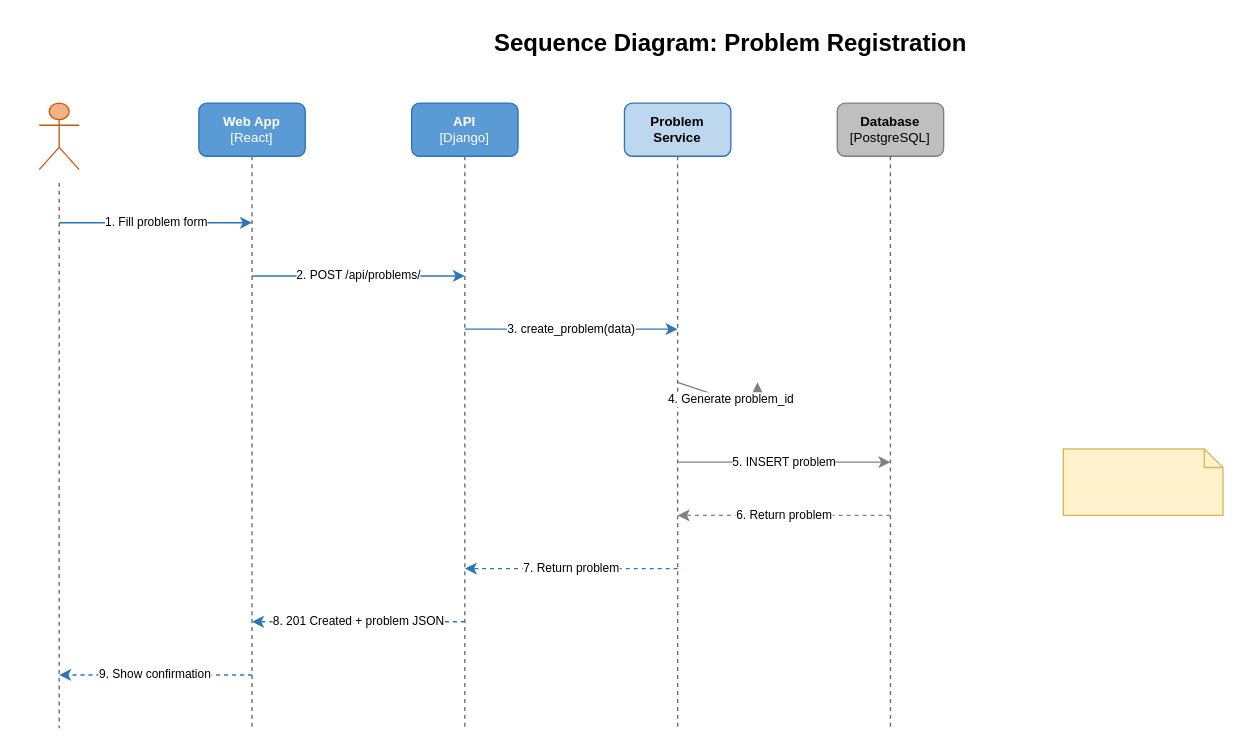
Image size: 1246x753. Some labels were removed from this diagram. Here are the shapes that lost their labels. From the top down, the centre of each, then its label:
At [58,136]: "Consumer".
At [1142,481]: "Problem created with status = NEW".
